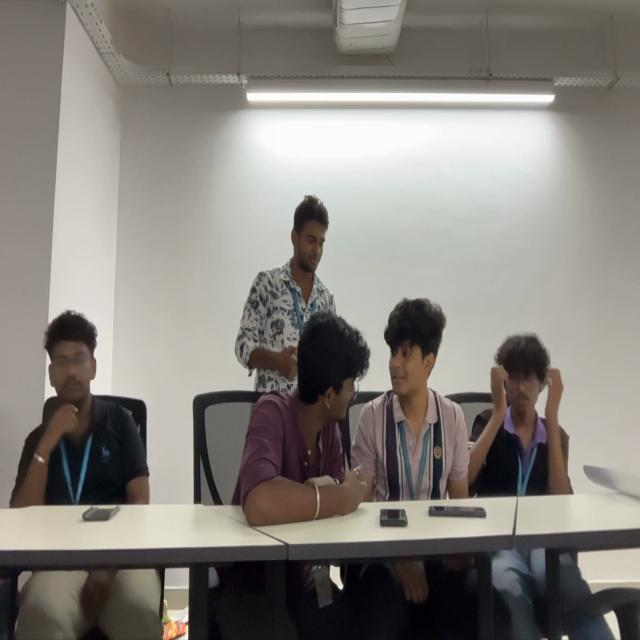Isolated: (11, 308, 149, 504)
socializing: (235, 190, 573, 518)
